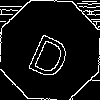D: (25, 25, 77, 81)
